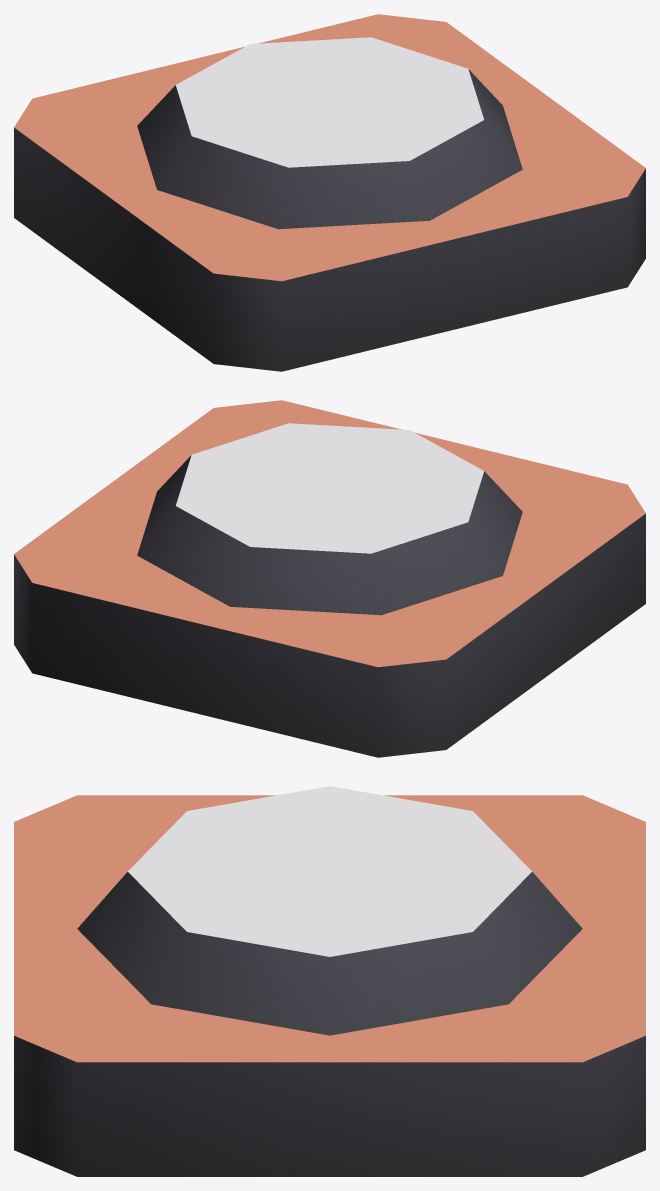
File: button-floor-round.obj
The picture shows the model from 3 angles, top to bottom: view 1: azimuth 30°, elevation 25°; view 2: azimuth 150°, elevation 25°; view 3: azimuth 270°, elevation 25°; orthographic projection. The views are drawn at different scales.
Visible parts, largest first — view 1: button-floor-round, button; view 2: button-floor-round, button; view 3: button-floor-round, button.
Part boxes in pixels (box(x1,y1,x2,y2)): button-floor-round: box(14, 14, 645, 371); button: box(137, 37, 522, 229); button-floor-round: box(14, 400, 645, 757); button: box(137, 423, 522, 615); button-floor-round: box(14, 795, 645, 1176); button: box(77, 786, 582, 1035).
Size of the model in its own units: 0.5 by 0.15 by 0.5.
